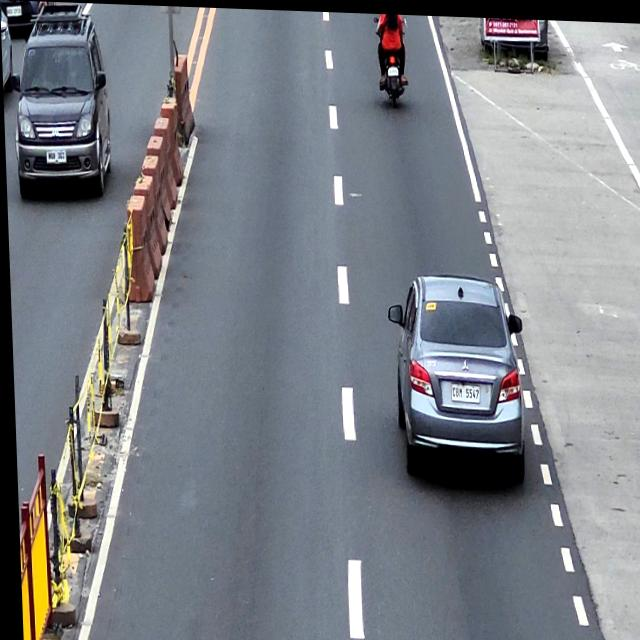Car: (385, 269, 525, 483), (7, 14, 113, 204)
License-Plate: (449, 380, 477, 400), (44, 149, 66, 164), (387, 63, 399, 74)
Motorcycle: (374, 13, 408, 109)
